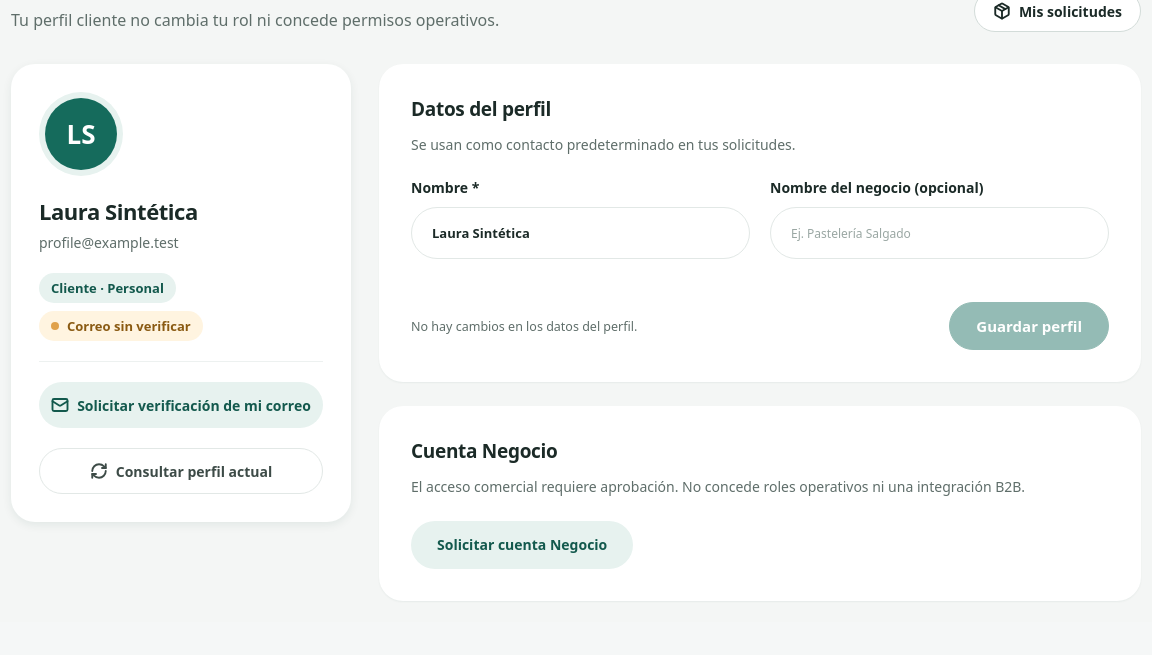
confirms discard and never overwrites edits when refresh fails
Replace the text in the field labelled "Nombre *" with "Conservar edición" at (580, 233), box [411,207,750,259]
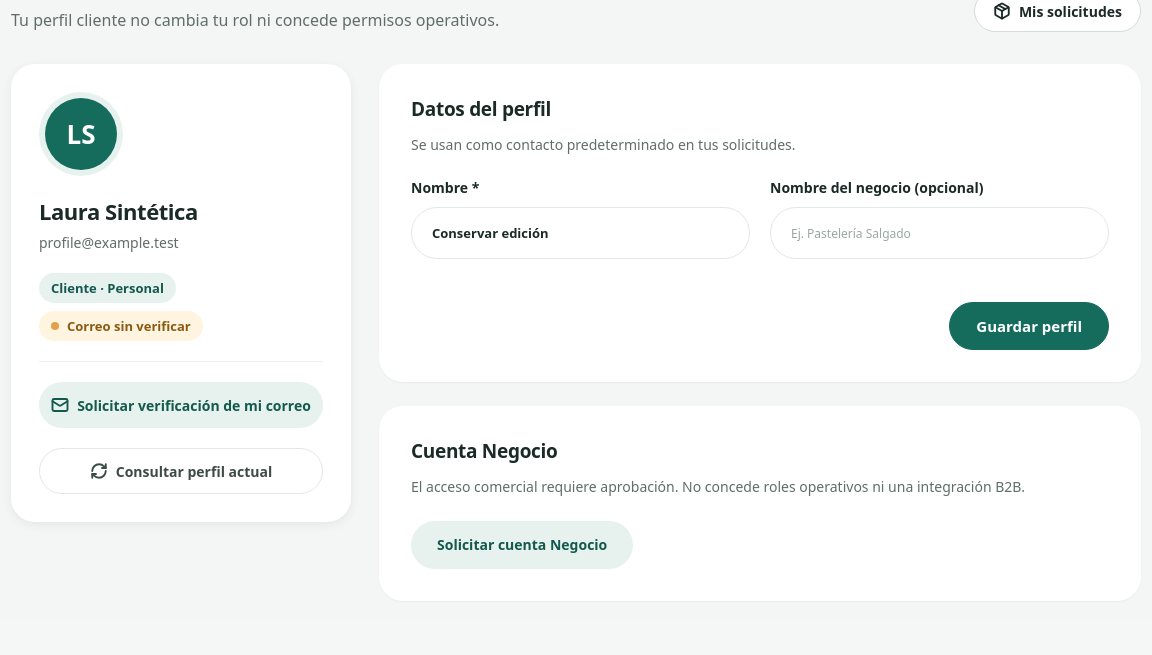
Click the button "Consultar perfil actual" at (181, 471), box [39,448,323,494]
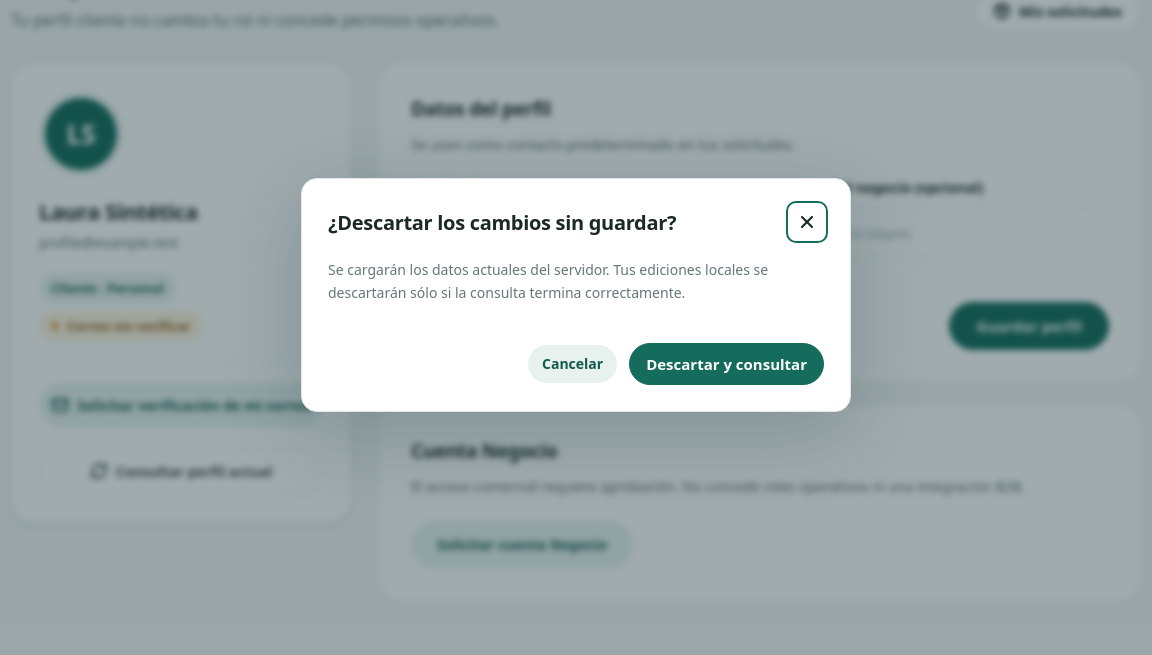
Check: the dialog is shown, box [301,178,851,412]
Click the button "Descartar y consultar" at (727, 364), box [629,343,824,385]
(page scrolled)
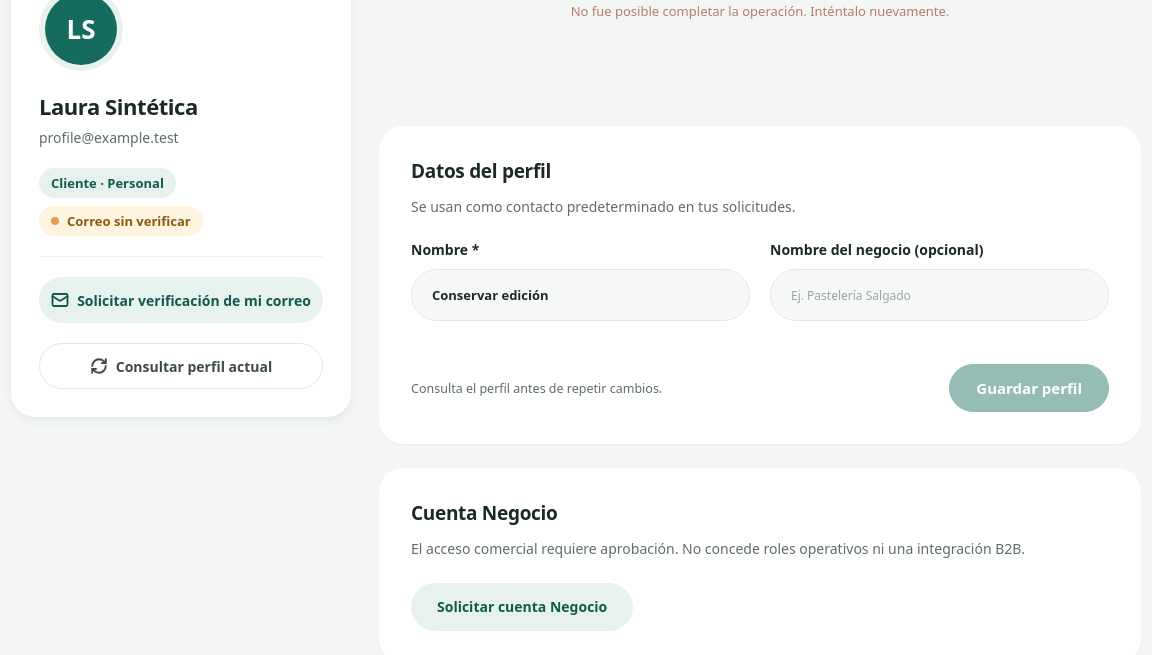
Check: the dialog is gone
